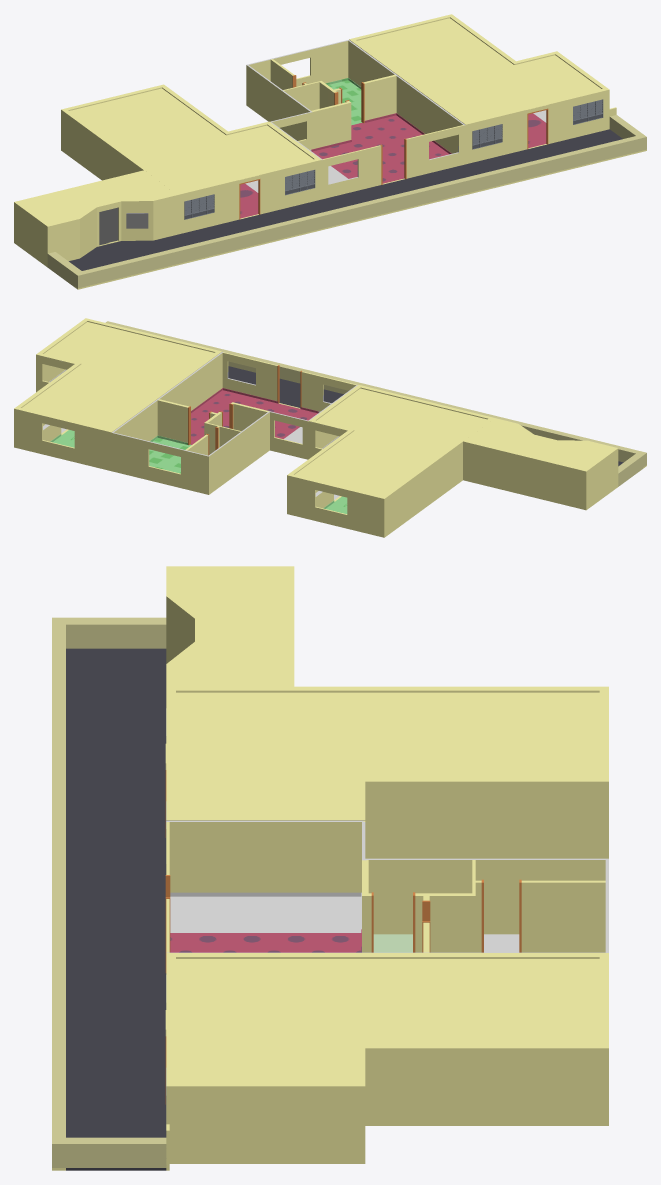
Rendered from MP_Player_Neighbour_Flats.fbx.
3 views of the same model, one above another, from view 1: azimuth 30°, elevation 25°; view 2: azimuth 150°, elevation 25°; view 3: azimuth 270°, elevation 25° (orthographic). The views are drawn at different scales.
Visible parts, largest first — view 1: Player_Neighbour_Flats, LivingRoom_Slice, BombShelter_Slice, Bathroom_Slice, Bedroom_Slice2, Bedroom_Slice; view 2: Player_Neighbour_Flats, LivingRoom_Slice, Bedroom_Slice2, Bathroom_Slice, BombShelter_Slice, Bedroom_Slice; view 3: Player_Neighbour_Flats, Bathroom_Slice, Bedroom_Slice.
Boxes of the visible parts, x1,y1,x2,y2 form: Player_Neighbour_Flats: [14, 14, 646, 289]; LivingRoom_Slice: [323, 125, 464, 179]; BombShelter_Slice: [311, 100, 351, 131]; Bathroom_Slice: [270, 59, 308, 105]; Bedroom_Slice2: [361, 74, 396, 103]; Bedroom_Slice: [307, 81, 342, 106]; Player_Neighbour_Flats: [14, 318, 646, 537]; LivingRoom_Slice: [222, 352, 356, 395]; Bedroom_Slice2: [157, 399, 190, 426]; Bathroom_Slice: [185, 425, 241, 454]; BombShelter_Slice: [229, 402, 268, 425]; Bedroom_Slice: [204, 411, 222, 443]; Player_Neighbour_Flats: [52, 566, 608, 1170]; Bathroom_Slice: [472, 860, 605, 920]; Bedroom_Slice: [413, 882, 475, 933].
Bounding box in the file's own units: 3120 × 215 × 1395.
17 materials, 2 textured.
